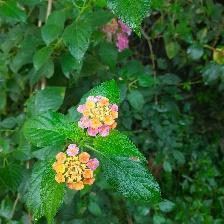common lanthana: (75, 92, 122, 141), (54, 145, 101, 192), (116, 30, 131, 52)
